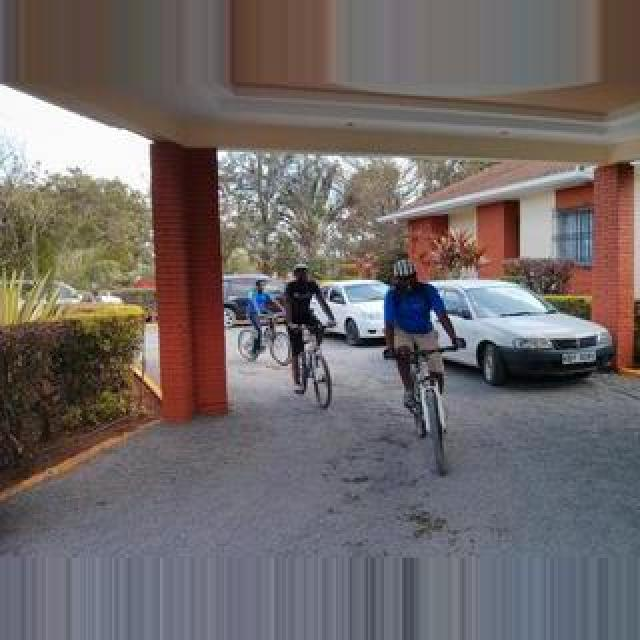Bus-Bike: (416, 280, 610, 386), (312, 280, 392, 344), (288, 268, 330, 374)
MC-Bike: (384, 256, 458, 428), (282, 264, 334, 388), (244, 278, 282, 352)
Person: (386, 342, 450, 476), (292, 322, 334, 408), (238, 310, 292, 364)
